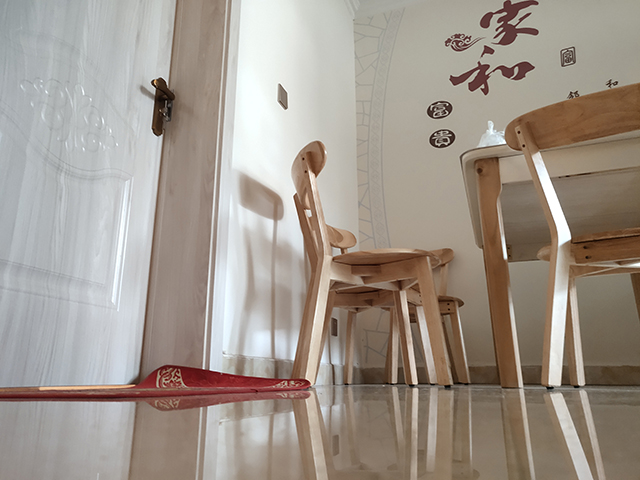carpet: (1, 363, 314, 403)
stool: (288, 138, 472, 391), (502, 80, 640, 391)
table: (458, 81, 640, 392)
